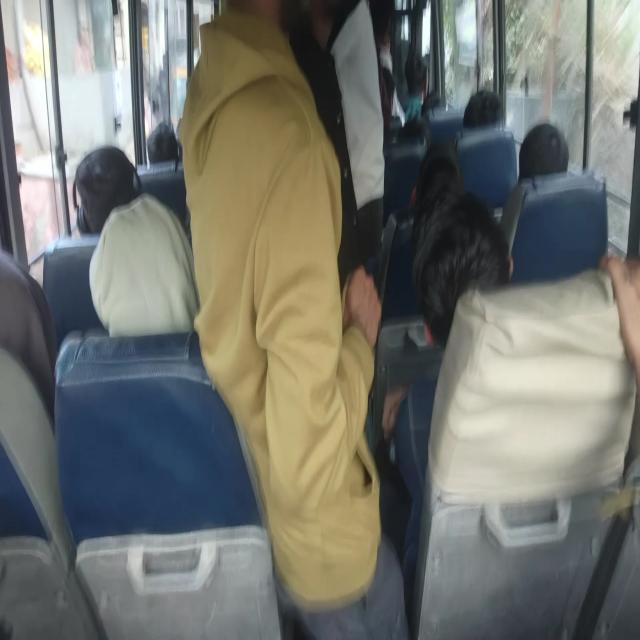person: (177, 0, 409, 638), (410, 189, 639, 505), (287, 0, 385, 288), (72, 144, 200, 337), (412, 189, 513, 349), (72, 144, 142, 237), (598, 251, 640, 388), (518, 122, 569, 180), (402, 50, 428, 124), (462, 89, 502, 130)
